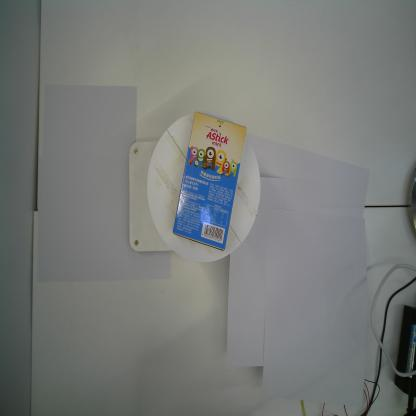Dessert: (172, 109, 248, 255)
